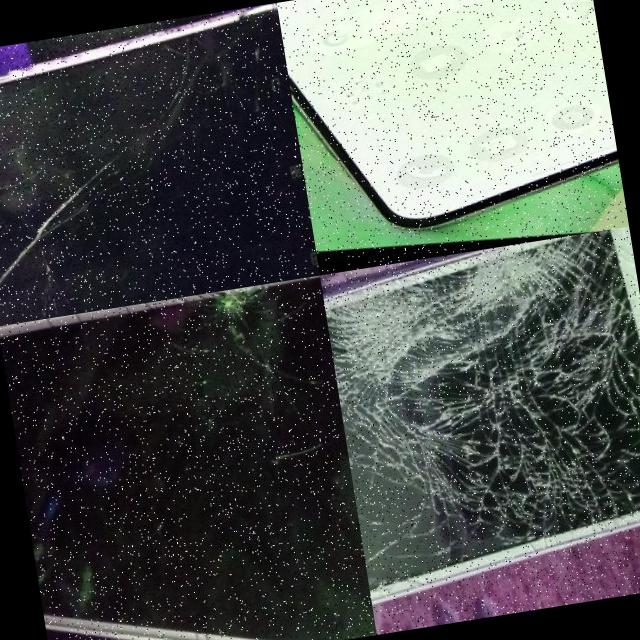screen crack: (319, 226, 640, 613), (120, 275, 374, 640), (0, 78, 245, 321)
